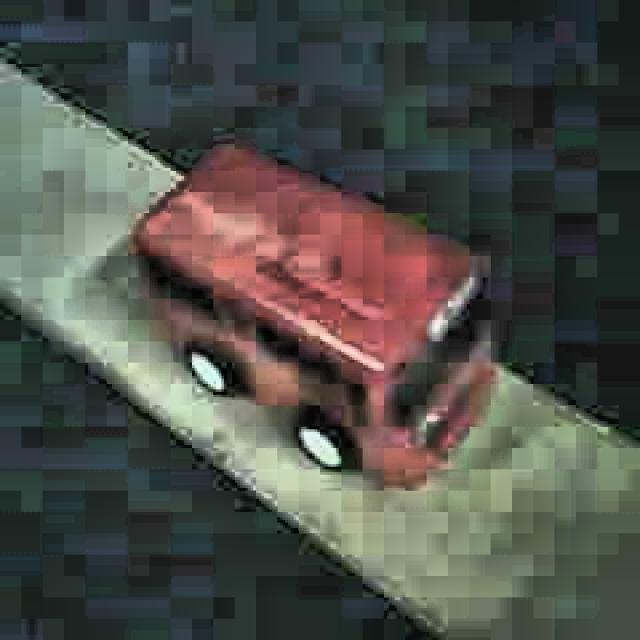bus: (135, 142, 494, 492)
